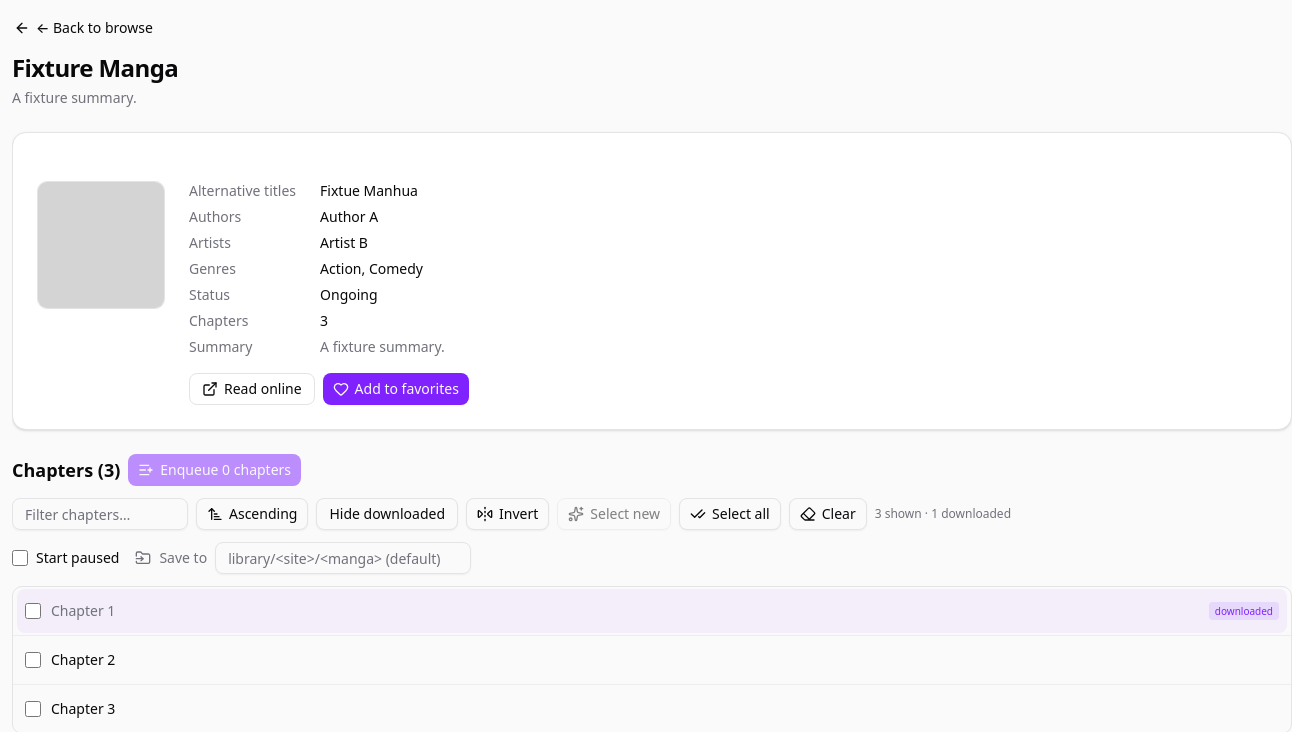
Test: MangaPage › renders info + chapters, previews the enqueue body (dry-run), then POSTs it
Expected: the heading "Fixture Manga" is shown, [12, 52, 178, 84]
Expected: the text "Action, Comedy" is shown, [320, 259, 423, 278]
Click the checkbox labelled "Chapter 1". click: (33, 611)
box: [25, 603, 41, 619]
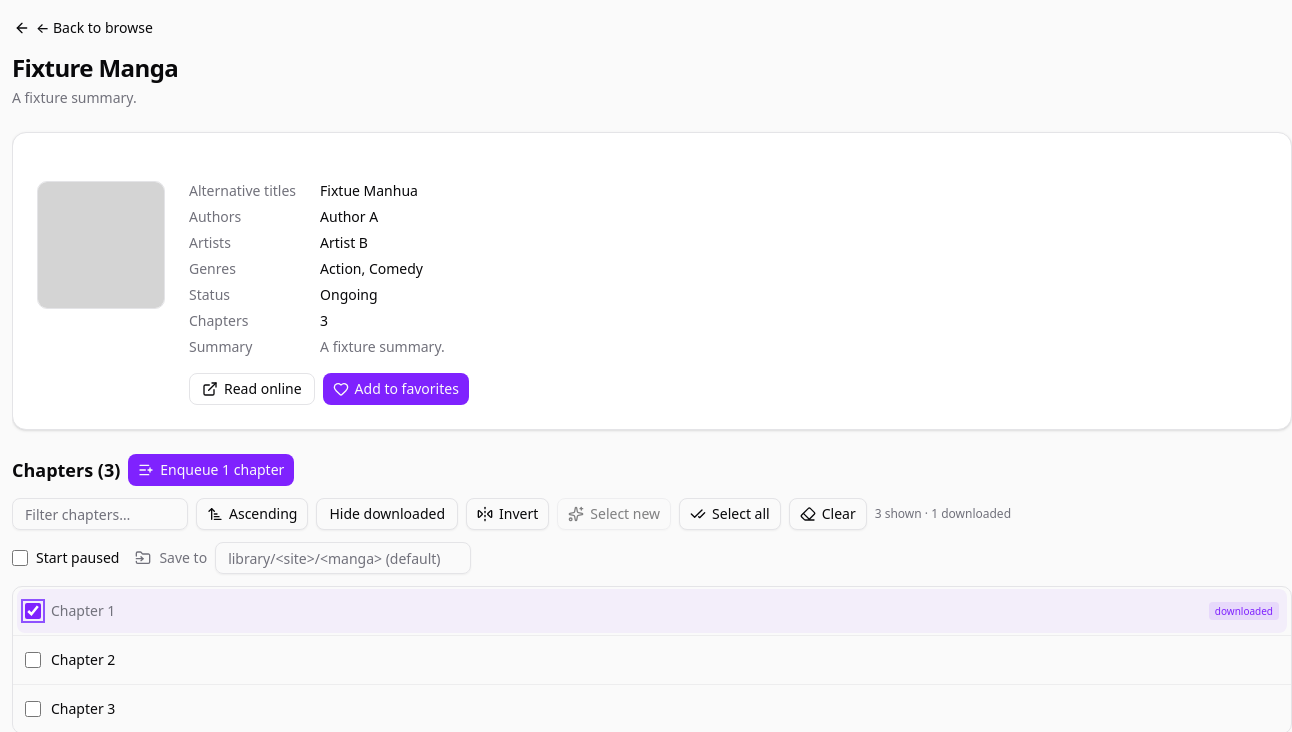
Note: Enqueue POSTs the same shape
Click the button "Enqueue 1 chapter". click: (211, 470)
box: [128, 454, 294, 486]
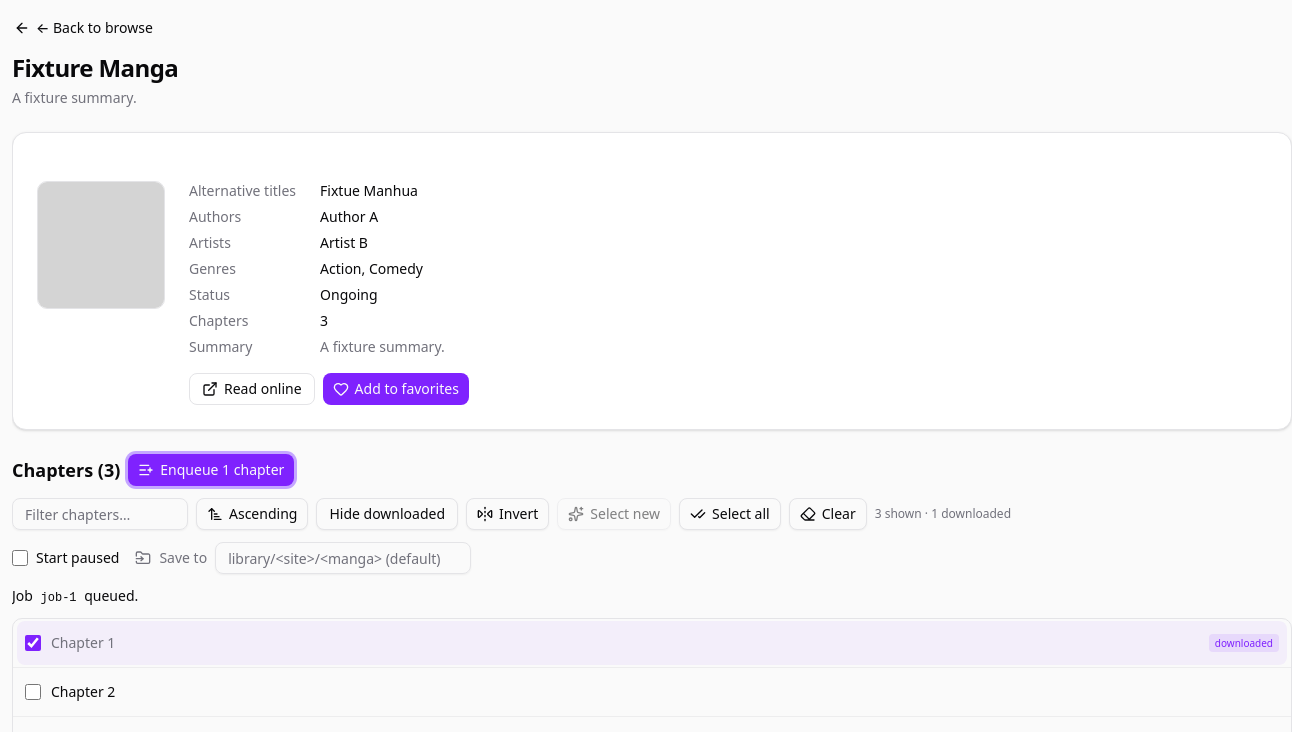
Result: the message reads "Job job-1 queued." at [12, 586, 138, 607]
